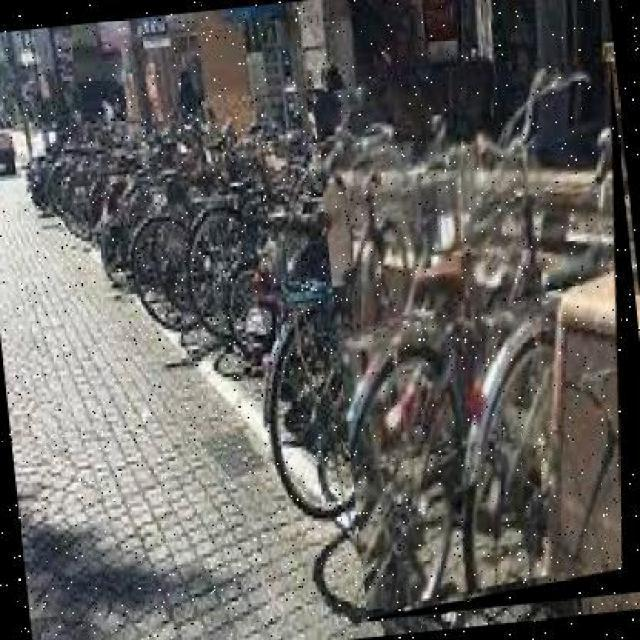bicycle: (314, 61, 640, 624)
